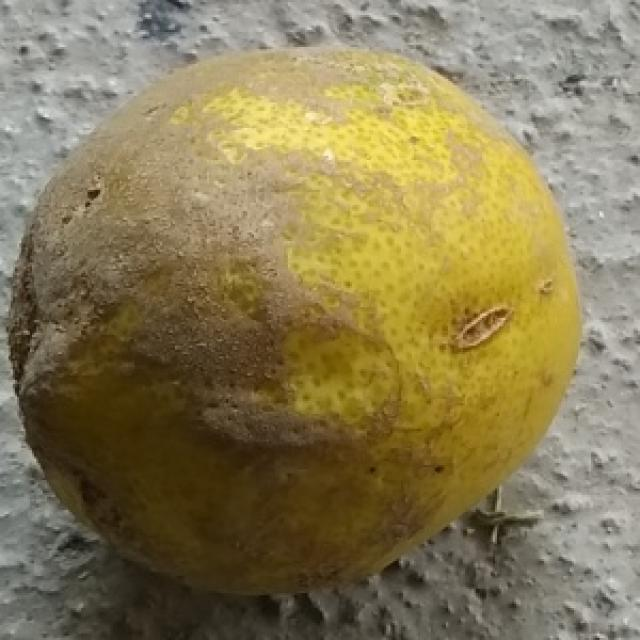overripe: (0, 38, 592, 604)
